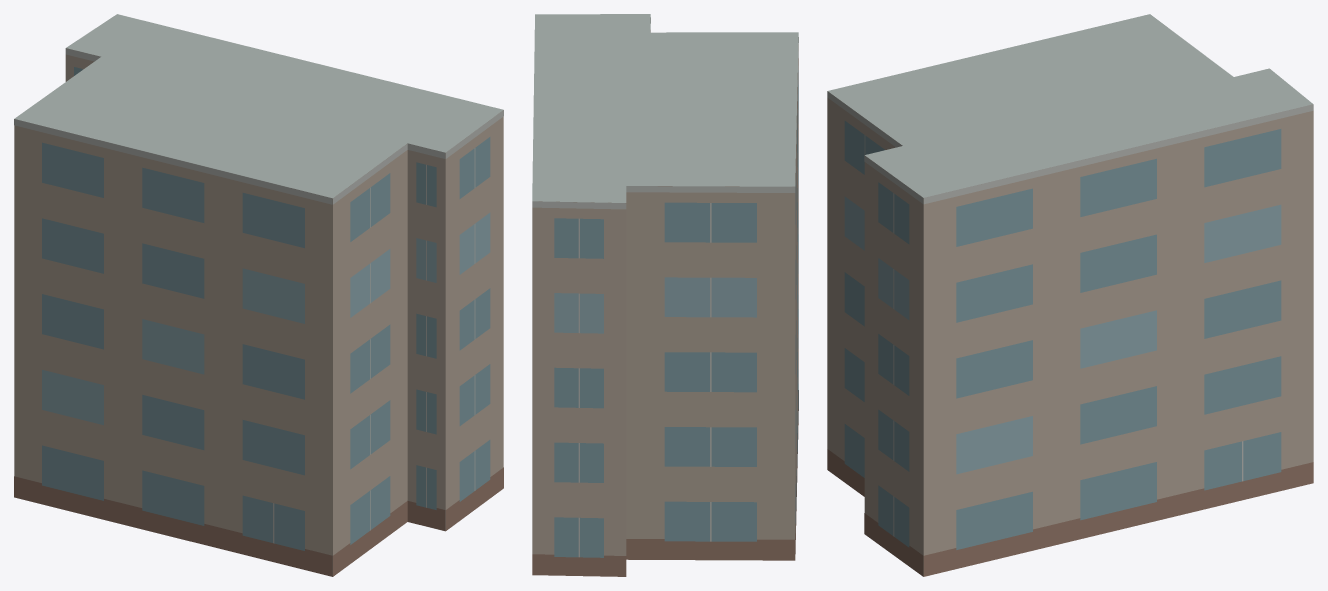
File: survey-upis-33017031.glb
3 renders of one model, left to right at view 1: azimuth 30°, elevation 25°; view 2: azimuth 150°, elevation 25°; view 3: azimuth 270°, elevation 25°, orthographic.
Visible parts, largest first — view 1: survey-upis-33017031.tmp; view 2: survey-upis-33017031.tmp; view 3: survey-upis-33017031.tmp.
Boxes of the visible parts, x1=… form: survey-upis-33017031.tmp: x1=14, y1=14, x2=503, y2=576; survey-upis-33017031.tmp: x1=532, y1=14, x2=798, y2=576; survey-upis-33017031.tmp: x1=827, y1=14, x2=1313, y2=576.
Size of the model in its own units: 14.9 by 14.3 by 16.64.
